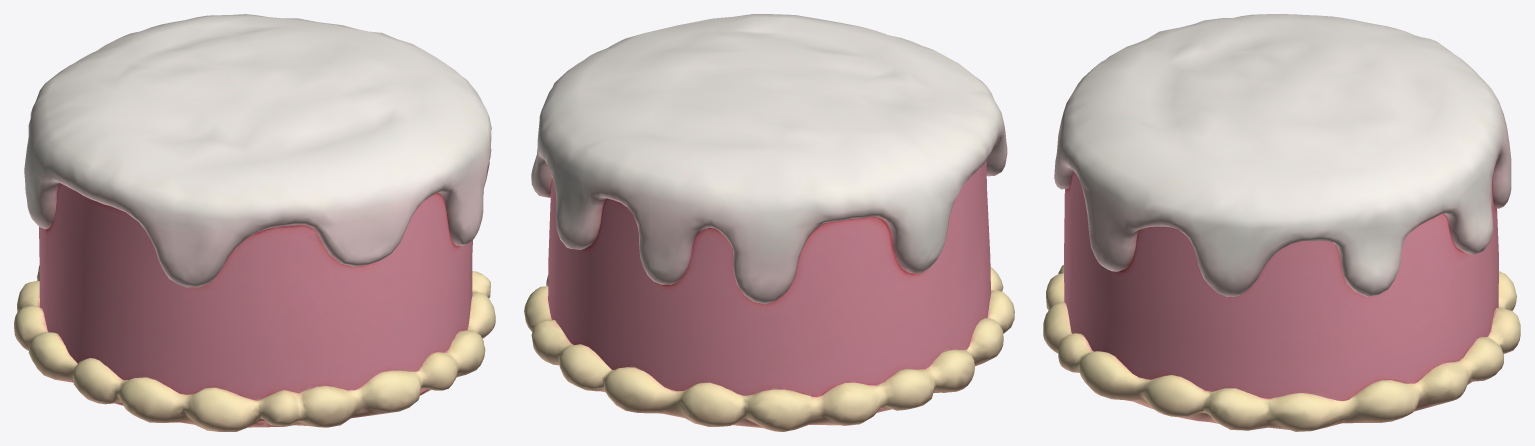
The model's file is cake.glb.
The picture shows the model from 3 angles, left to right: view 1: azimuth 30°, elevation 25°; view 2: azimuth 150°, elevation 25°; view 3: azimuth 270°, elevation 25°; orthographic projection.
Visible parts, largest first — view 1: tripo_node_287ae25a-0da2-42ba-9f5f-ceefc33682d0; view 2: tripo_node_287ae25a-0da2-42ba-9f5f-ceefc33682d0; view 3: tripo_node_287ae25a-0da2-42ba-9f5f-ceefc33682d0.
Part boxes in pixels (box(x1,y1,x2,y2)): tripo_node_287ae25a-0da2-42ba-9f5f-ceefc33682d0: box(14, 14, 495, 431); tripo_node_287ae25a-0da2-42ba-9f5f-ceefc33682d0: box(524, 14, 1014, 431); tripo_node_287ae25a-0da2-42ba-9f5f-ceefc33682d0: box(1043, 14, 1520, 431).
Size of the model in its own units: 0.998 by 0.5918 by 0.9902.
Materials: 1 (1 with a texture image).
